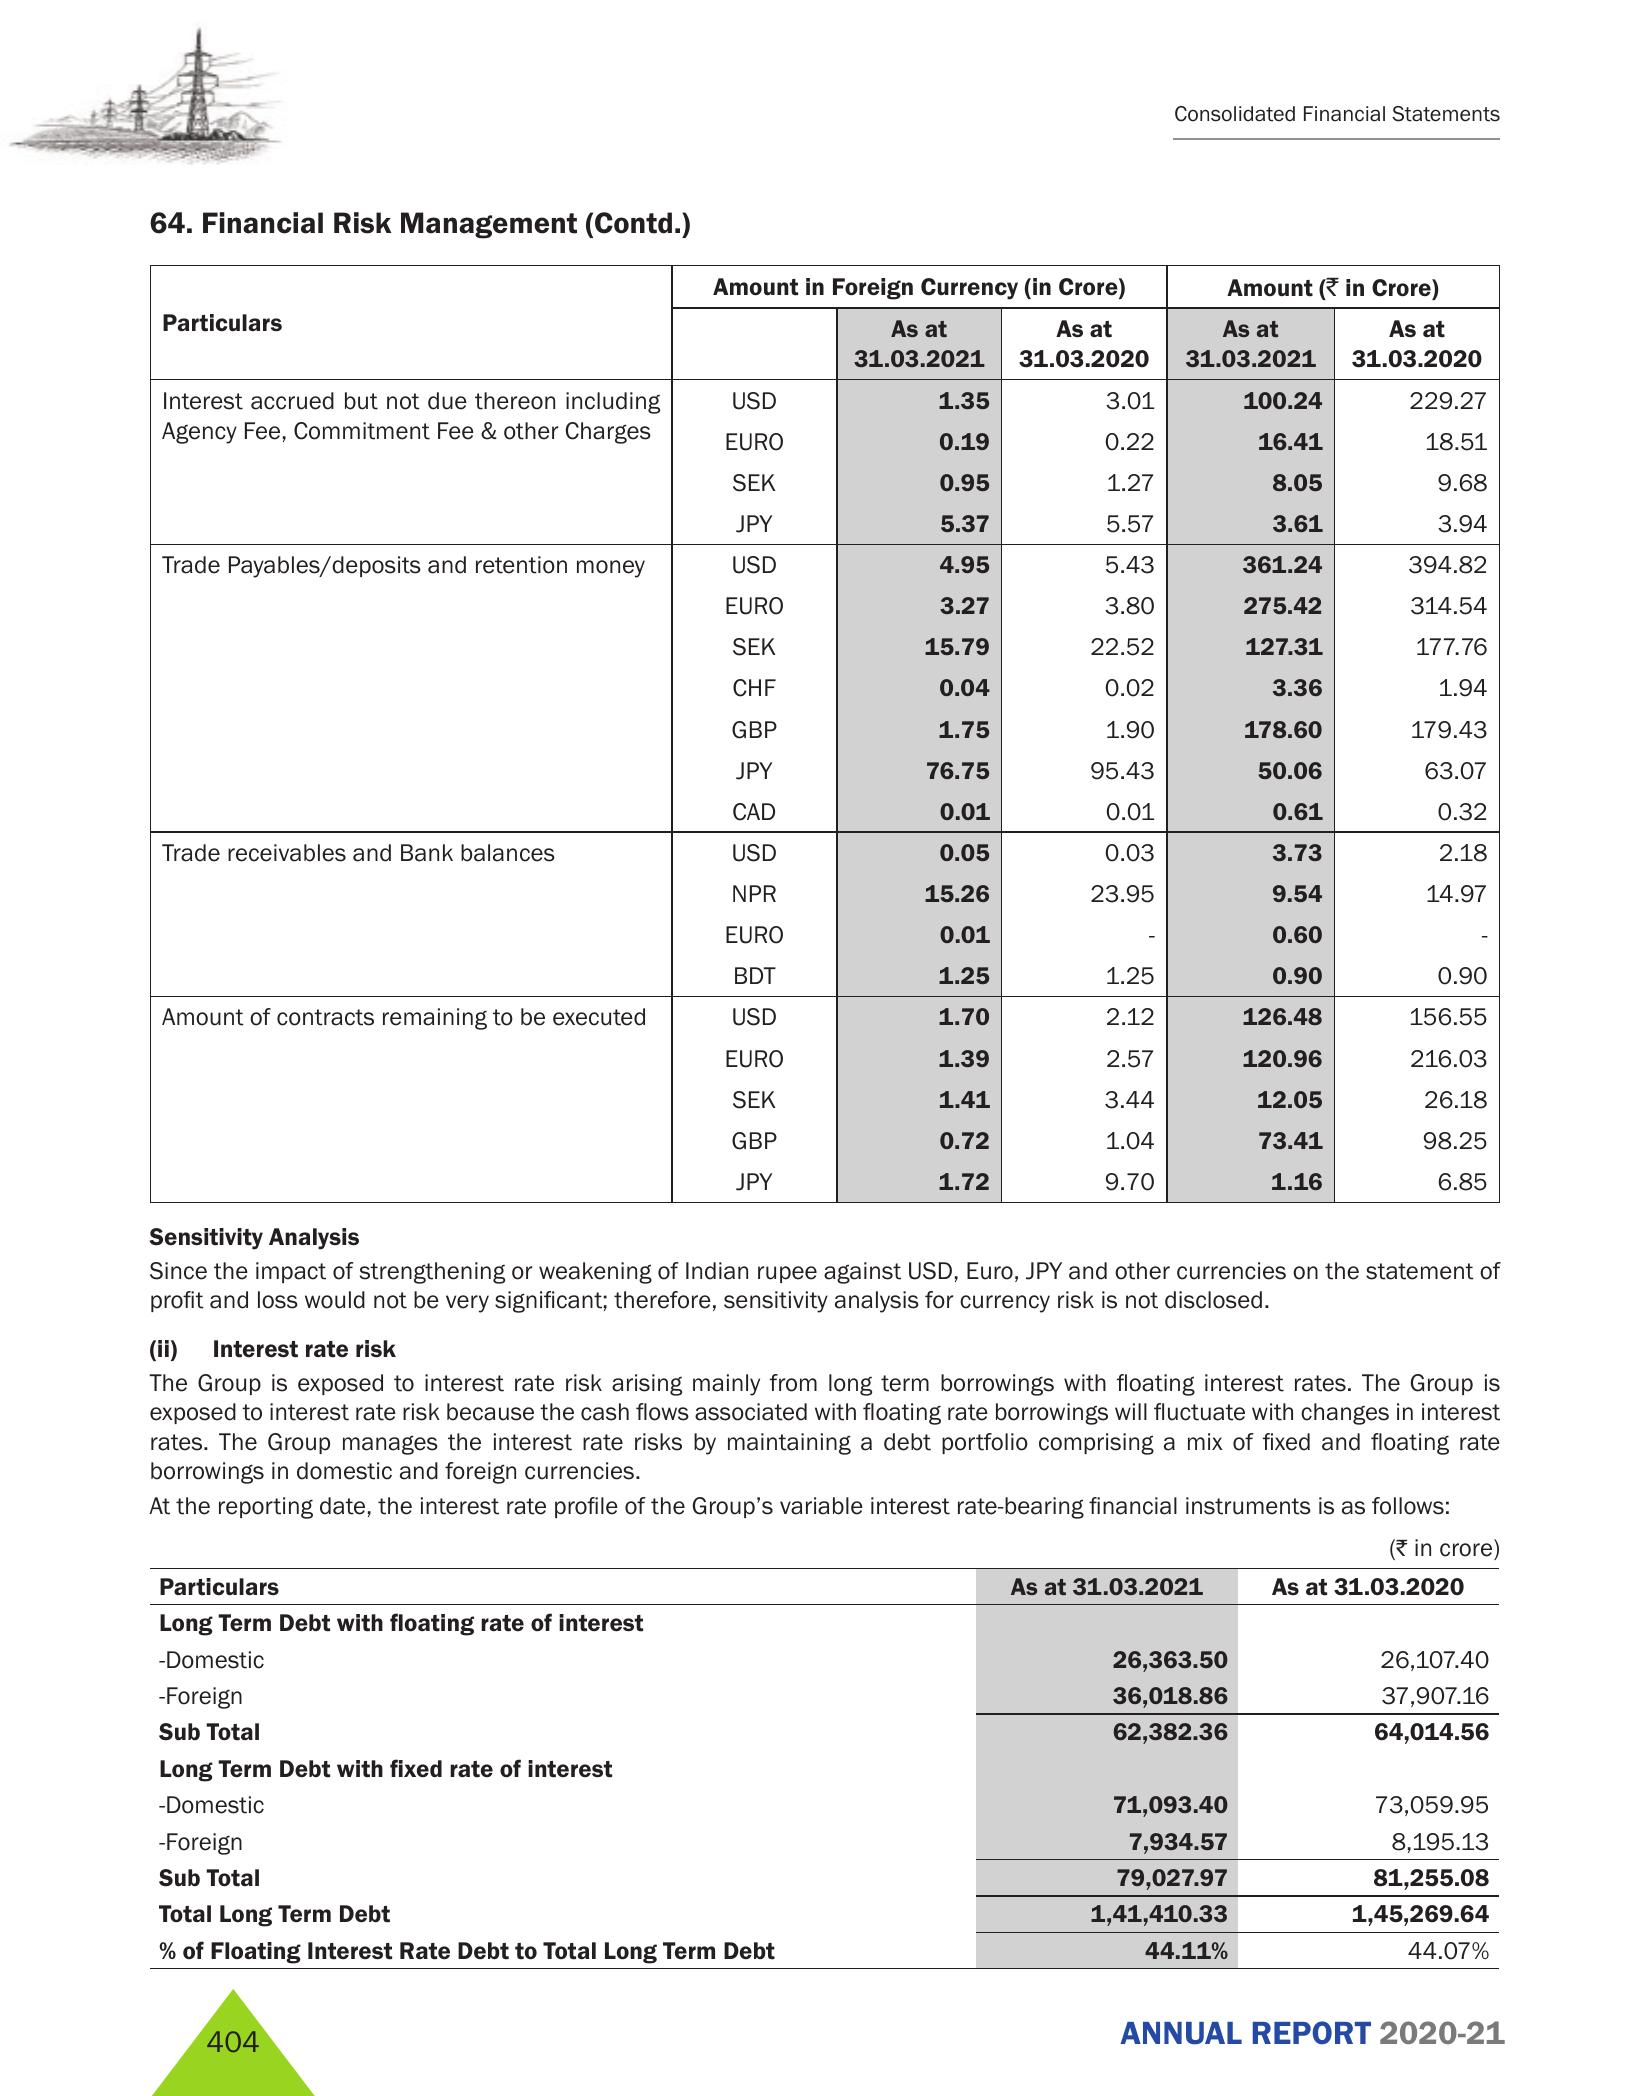Footer: (0, 1974, 1650, 2096)
Header: (0, 0, 1650, 172)
Table: (143, 260, 1507, 1205), (139, 1557, 1521, 1979)
